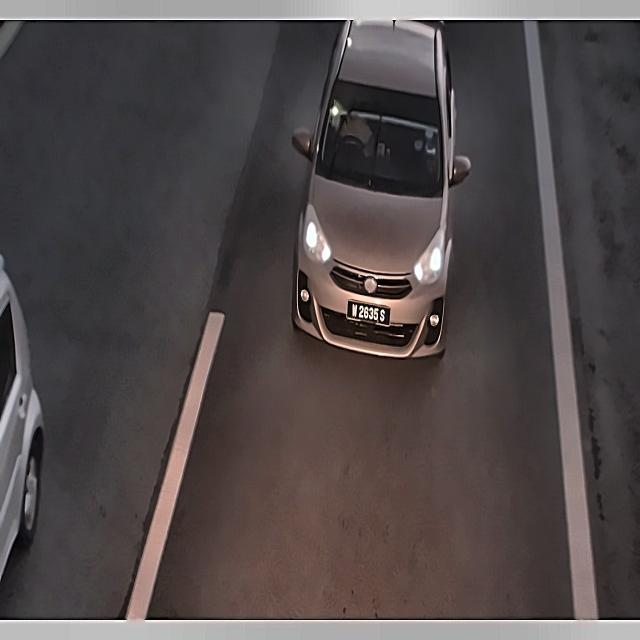car: (342, 291, 396, 337)
